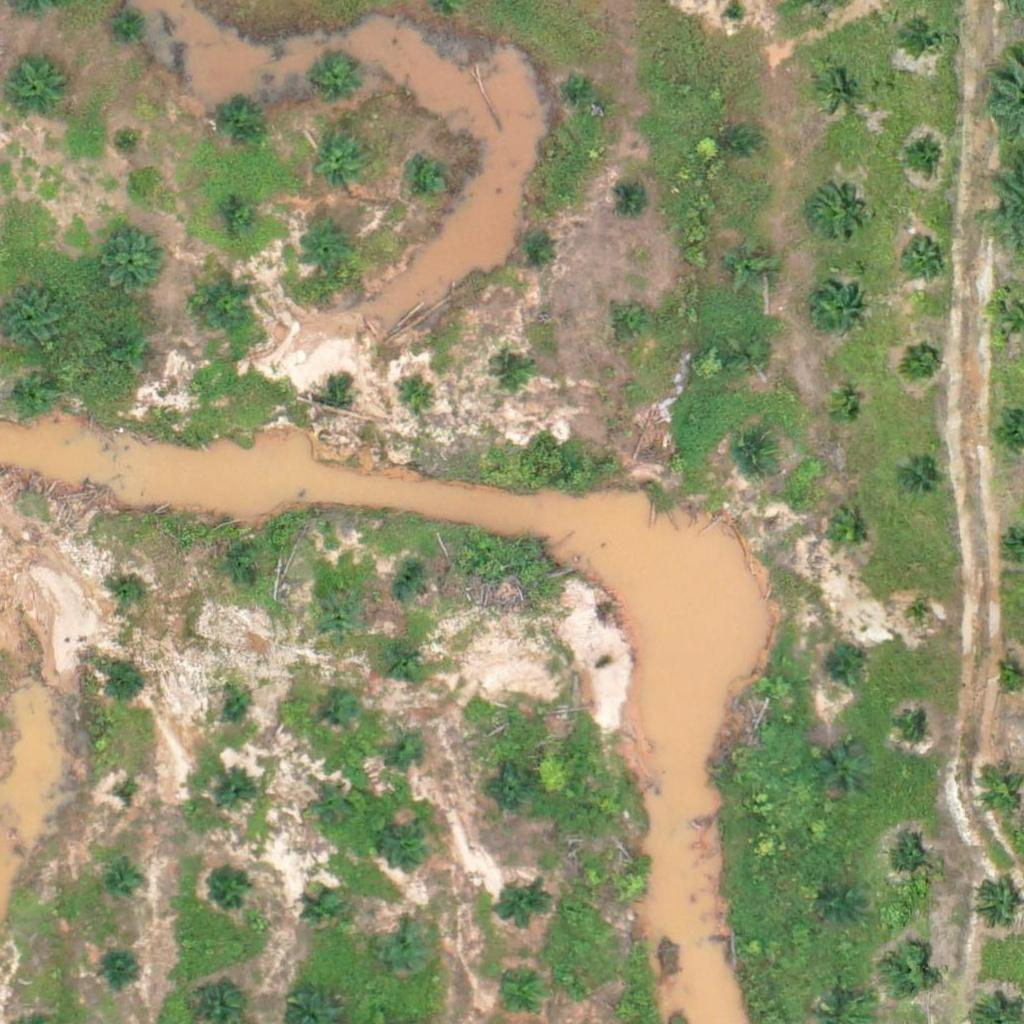Kelapa_Sawit: (376, 920, 439, 983), (5, 57, 68, 119), (97, 224, 160, 286), (807, 280, 869, 343), (3, 283, 65, 346), (198, 275, 260, 337), (311, 54, 361, 105), (810, 183, 860, 234), (823, 507, 873, 558), (726, 240, 776, 291), (207, 862, 257, 913), (384, 818, 434, 868), (209, 93, 259, 143), (316, 138, 366, 188), (302, 224, 352, 274), (885, 839, 935, 889), (883, 948, 933, 998), (972, 881, 1022, 931), (497, 882, 547, 932), (495, 972, 545, 1022), (819, 747, 869, 797), (488, 767, 538, 817), (899, 230, 949, 280), (9, 367, 59, 417), (97, 330, 147, 380), (612, 866, 650, 904), (823, 648, 861, 686), (716, 125, 754, 163), (110, 6, 148, 44), (221, 195, 259, 233), (910, 19, 948, 57), (110, 570, 148, 608), (104, 956, 142, 994), (222, 684, 260, 722), (390, 726, 428, 764), (390, 639, 428, 677), (389, 564, 427, 602), (409, 162, 446, 200), (826, 392, 864, 429), (823, 886, 860, 924), (904, 136, 941, 174), (822, 69, 859, 107), (616, 180, 654, 217), (492, 355, 529, 393), (733, 338, 771, 375), (906, 340, 943, 378), (111, 120, 148, 158), (396, 379, 433, 417), (100, 665, 138, 702), (109, 781, 147, 818), (106, 865, 144, 902), (218, 768, 256, 805), (233, 564, 270, 602), (318, 601, 355, 639), (323, 693, 360, 731), (313, 789, 350, 827), (902, 464, 939, 501), (734, 436, 771, 473), (514, 228, 551, 265), (611, 306, 648, 343), (562, 71, 599, 108), (304, 893, 341, 930), (319, 385, 344, 411), (996, 664, 1021, 689), (908, 603, 933, 628), (902, 715, 927, 740)
